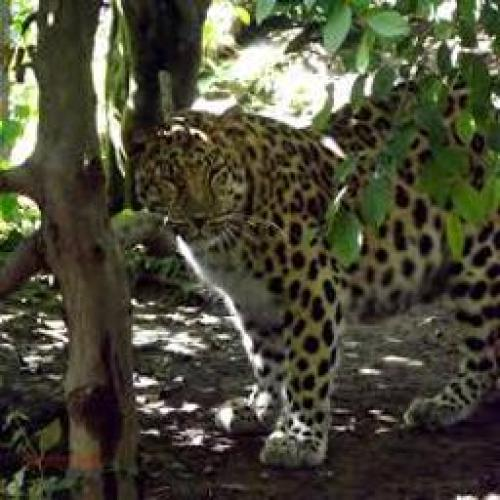amur_leopard-endangered: (124, 98, 500, 450)
